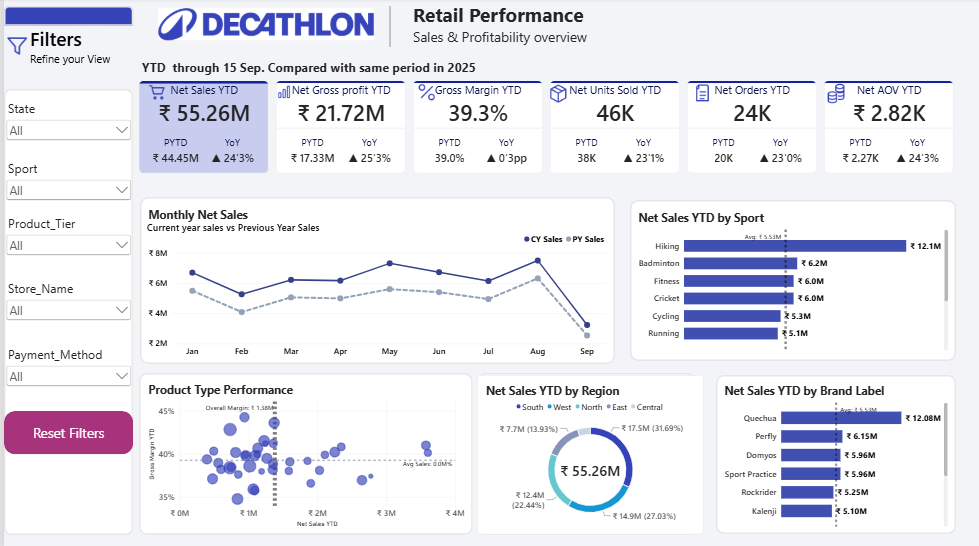

The page's visual inventory and layout, read from the dashboard file:
{"tool":"powerbi","page":{"name":"Page 1","canvas":[1920,1080],"ordinal":0},"visuals":[{"type":"image","box":[302.4,0,424,103],"z":0},{"type":"textbox","box":[803.1,7.9,424.1,96.2],"z":1000},{"type":"shape","box":[726.5,15.7,62.8,80.5],"z":2000},{"type":"textbox","box":[271.8,119.9,657.8,60.9],"z":3000},{"type":"cardVisual","fields":{"Data":["sales.Net Sales YTD","sales.Net Gross profit YTD","sales.Gross Margin YTD","sales.Net Units Sold YTD","sales.Net Orders YTD","sales.Net AOV YTD"]},"box":[265.3,163.3,1604.1,181.6],"z":4000},{"type":"image","box":[275,163.5,53.8,48.1],"z":5000},{"type":"image","box":[532.1,161,38.5,48.1],"z":6000},{"type":"image","box":[803.3,160.7,53.8,48.1],"z":7000},{"type":"image","box":[1055.7,162.3,63.5,48.1],"z":8000},{"type":"image","box":[1345.1,163,53.8,48.1],"z":9000},{"type":"image","box":[1606.3,163,53.8,48.1],"z":10000},{"type":"shape","box":[267.1,390.8,932.7,327.9],"z":11000},{"type":"lineChart","title":"Monthly Net Sales","fields":{"Category":["Date Table.Month Name"],"Y":["sales.CY Sales","sales.PY Sales"]},"box":[267.6,396,932.7,327.9],"z":12000},{"type":"textbox","box":[280.4,438.8,464.7,41.2],"z":13000},{"type":"shape","box":[1229.2,396.7,640.1,316.1],"z":14000},{"type":"clusteredBarChart","title":"Net Sales YTD by Sport","fields":{"Category":["products.Sport"],"Y":["sales.Net Sales YTD"]},"box":[1229.2,402.5,640.7,305.6],"z":15000},{"type":"shape","box":[265.1,736.4,655.2,317.9],"z":16000},{"type":"scatterChart","title":"Product Type Performance","fields":{"Category":["products.Product_Type"],"Size":["sales.Net Orders YTD"],"X":["sales.Net Sales YTD"],"Y":["sales.Gross Margin YTD"]},"box":[267.1,740.3,653.7,314.9],"z":17000},{"type":"shape","box":[930.8,736.4,428.1,318.1],"z":18000},{"type":"donutChart","title":"Net Sales YTD by Region","fields":{"Category":["store.Region"],"Y":["sales.Net Sales YTD"]},"box":[929,740.6,445.2,312.5],"z":19000},{"type":"shape","box":[1398.1,740.3,471.3,312.2],"z":20000},{"type":"clusteredBarChart","title":"Net Sales YTD by Brand Label","fields":{"Category":["products.Brand_Label"],"Y":["sales.Net Sales YTD"]},"box":[1398.1,742.3,471.3,312.2],"z":21000},{"type":"shape","box":[0,16.7,253.7,38.9],"z":22000},{"type":"textbox","box":[51.1,55,202.3,123.7],"z":23000},{"type":"image","box":[0,46.3,51.9,96.3],"z":24000},{"type":"shape","box":[0,178.7,253.3,875.8],"z":25000},{"type":"slicer","fields":{"Values":["products.Sport"]},"box":[0,318.5,253.7,107.4],"z":26000},{"type":"slicer","fields":{"Values":["store.State"]},"box":[0,200,253.7,107.4],"z":27000},{"type":"slicer","fields":{"Values":["sales.Payment_Method"]},"box":[0,683.3,253.7,107.4],"z":28000},{"type":"slicer","fields":{"Values":["store.Store_Name"]},"box":[0,553.7,253.7,107.4],"z":29000},{"type":"slicer","fields":{"Values":["products.Product_Tier"]},"box":[0,425.9,253.7,107.4],"z":30000},{"type":"actionButton","box":[0,811.1,253.7,85.2],"z":31000}]}

Visuals, with their boxes in screenshot pixels (x1, y1, x2, y2), scaled from the page's 1920x1080 canvas onto the 979x546 screenshot:
image: rect(154, 0, 370, 52)
textbox: rect(409, 4, 626, 53)
shape: rect(370, 8, 402, 49)
textbox: rect(139, 61, 474, 91)
cardVisual - sales.Net Sales YTD x sales.Net Gross profit YTD: rect(135, 83, 953, 174)
image: rect(140, 83, 168, 107)
image: rect(271, 81, 291, 106)
image: rect(410, 81, 437, 106)
image: rect(538, 82, 571, 106)
image: rect(686, 82, 713, 107)
image: rect(819, 82, 846, 107)
shape: rect(136, 198, 612, 363)
"Monthly Net Sales" lineChart: rect(136, 200, 612, 366)
textbox: rect(143, 222, 380, 243)
shape: rect(627, 201, 953, 360)
"Net Sales YTD by Sport" clusteredBarChart: rect(627, 203, 953, 358)
shape: rect(135, 372, 469, 533)
"Product Type Performance" scatterChart: rect(136, 374, 470, 533)
shape: rect(475, 372, 693, 533)
"Net Sales YTD by Region" donutChart: rect(474, 374, 701, 532)
shape: rect(713, 374, 953, 532)
"Net Sales YTD by Brand Label" clusteredBarChart: rect(713, 375, 953, 533)
shape: rect(0, 8, 129, 28)
textbox: rect(26, 28, 129, 90)
image: rect(0, 23, 26, 72)
shape: rect(0, 90, 129, 533)
slicer - products.Sport: rect(0, 161, 129, 215)
slicer - store.State: rect(0, 101, 129, 155)
slicer - sales.Payment_Method: rect(0, 345, 129, 400)
slicer - store.Store_Name: rect(0, 280, 129, 334)
slicer - products.Product_Tier: rect(0, 215, 129, 270)
actionButton: rect(0, 410, 129, 453)
